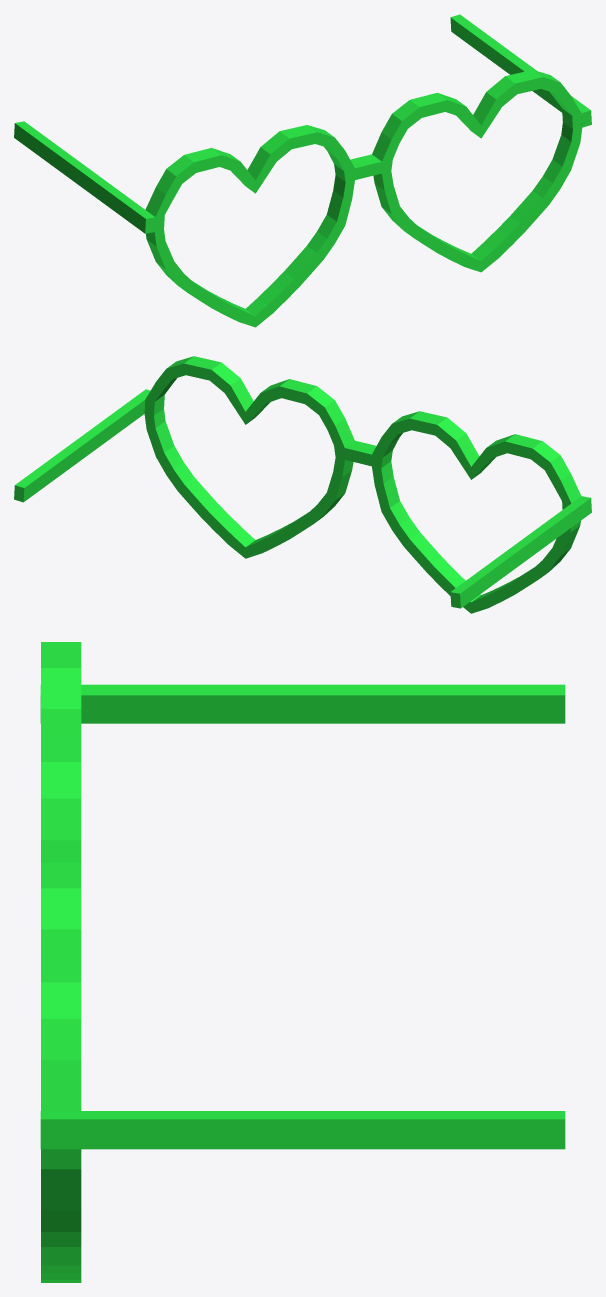
Rendered from glasses.fbx.
3 renders of one model, top to bottom at view 1: azimuth 30°, elevation 25°; view 2: azimuth 150°, elevation 25°; view 3: azimuth 270°, elevation 25°, orthographic. The views are drawn at different scales.
Visible parts, largest first — view 1: frames; view 2: frames; view 3: frames.
Boxes of the visible parts, x1,y1,x2,y2 form: frames: (14, 14, 591, 327); frames: (14, 356, 591, 613); frames: (40, 642, 565, 1282).
Size of the model in its own units: 102 by 39.41 by 51.85.
